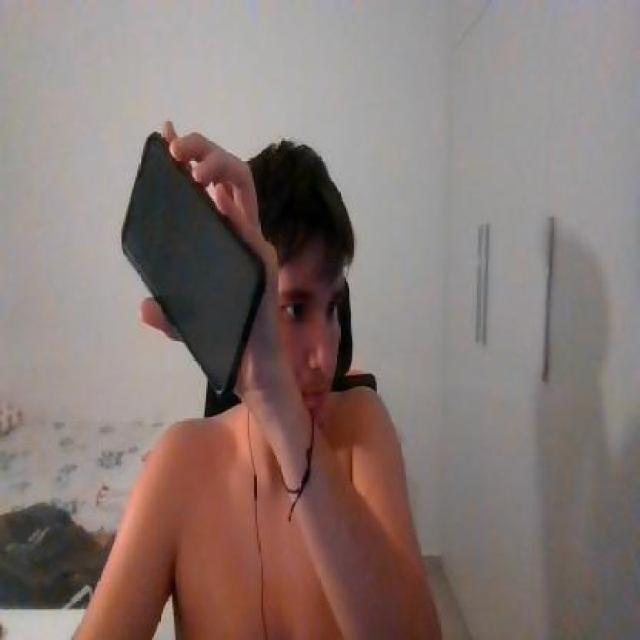phone: (121, 132, 266, 402)
